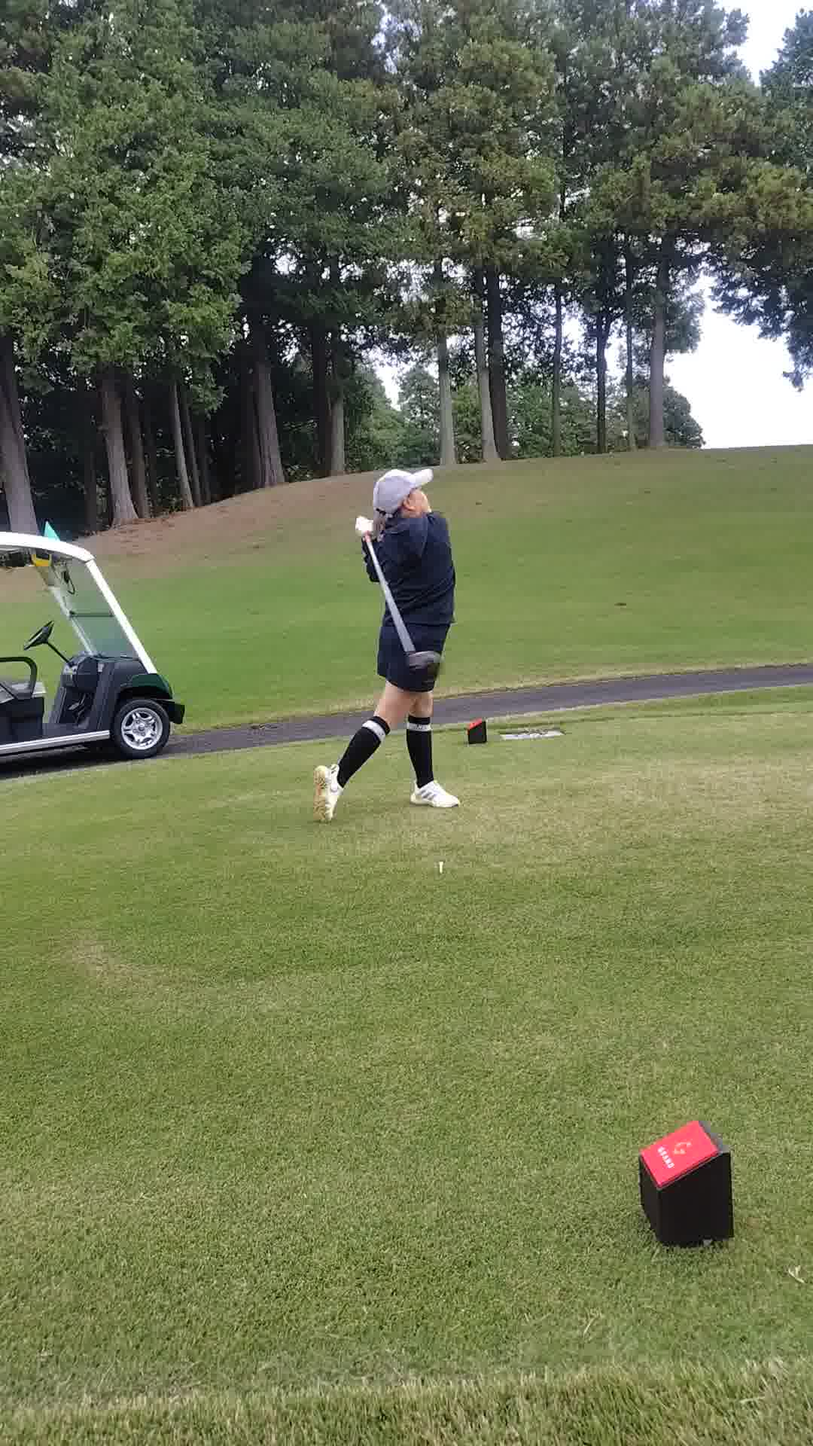clubhead: (348, 623, 492, 718)
